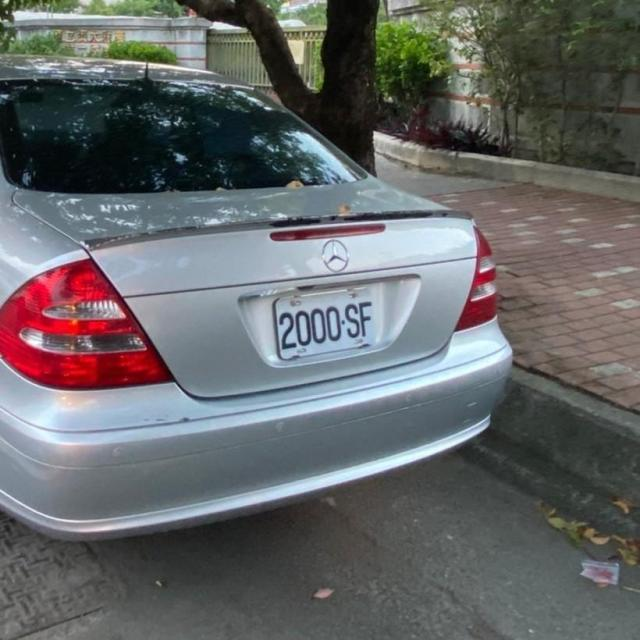W: (262, 277, 387, 364)
